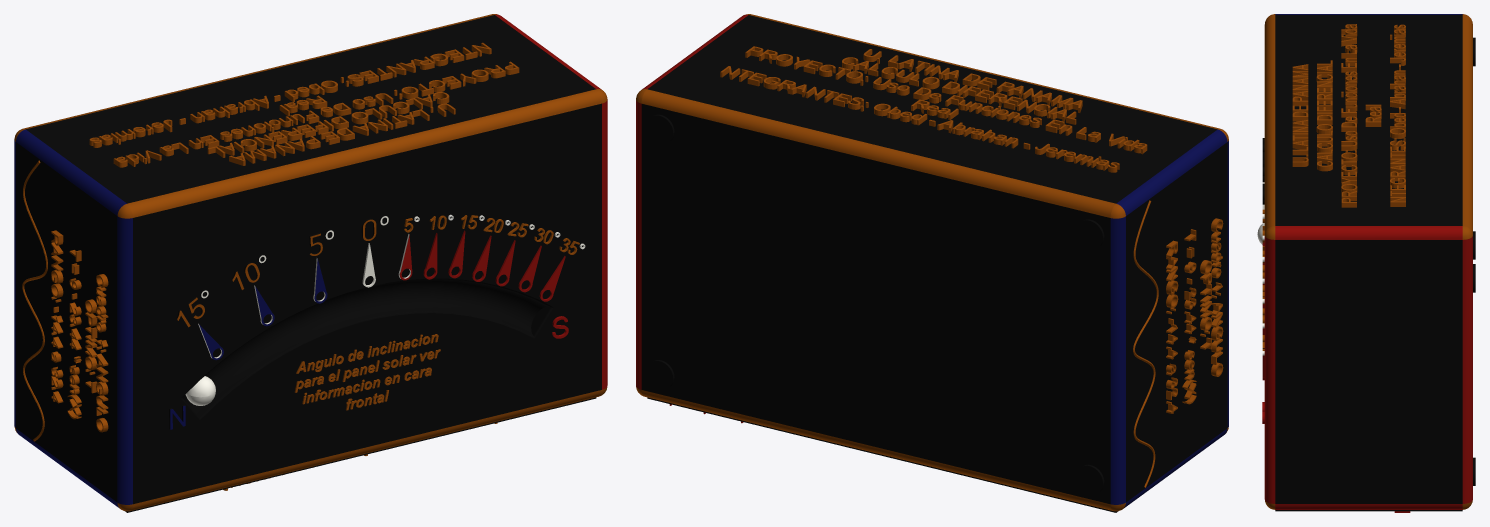
3 renders of one model, left to right at view 1: azimuth 30°, elevation 25°; view 2: azimuth 150°, elevation 25°; view 3: azimuth 270°, elevation 25°, orthographic. The views are drawn at different scales.
Parts seen in each view (by area): view 1: Proyecto final; view 2: Proyecto final; view 3: Proyecto final.
Part boxes in pixels (left/top/right/bottom): Proyecto final: left=14, top=14, right=607, bottom=512; Proyecto final: left=636, top=14, right=1228, bottom=512; Proyecto final: left=1257, top=14, right=1475, bottom=512.
Bounding box in the file's own units: 101 × 62.25 × 41.91.
